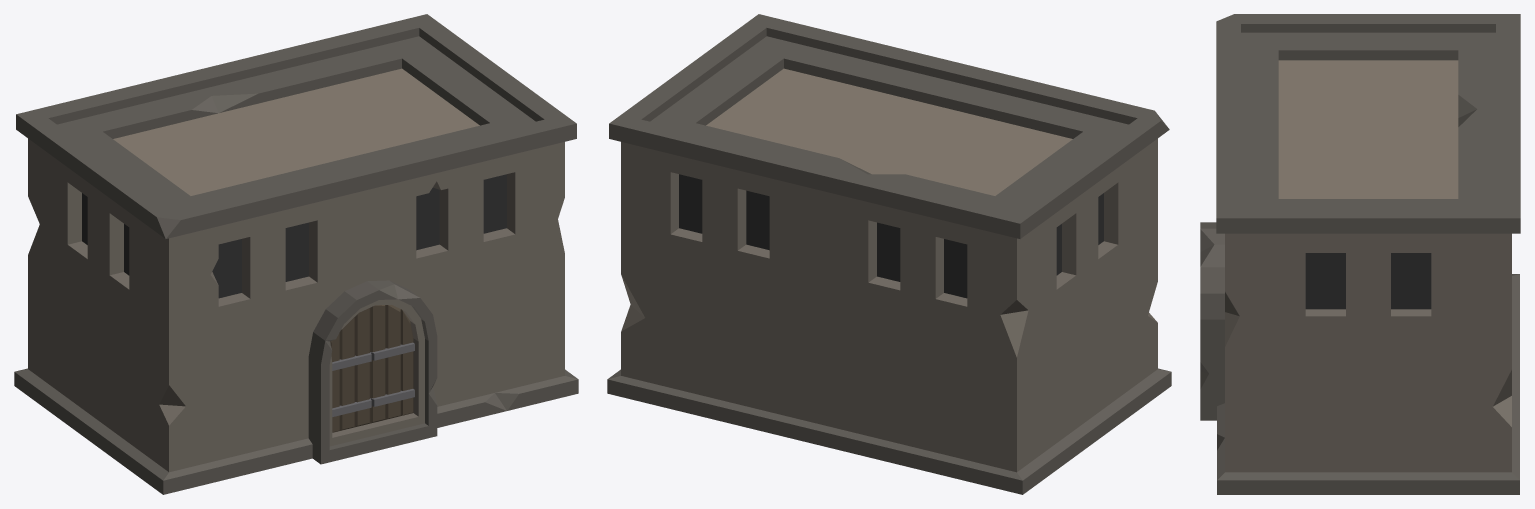
File: SM_Bld_Fort_Room_01.glb
The picture shows the model from 3 angles, left to right: view 1: azimuth 30°, elevation 25°; view 2: azimuth 150°, elevation 25°; view 3: azimuth 270°, elevation 25°; orthographic projection.
Parts seen in each view (by area): view 1: SM_Bld_Fort_Room_01; view 2: SM_Bld_Fort_Room_01; view 3: SM_Bld_Fort_Room_01.
Part boxes in pixels (left/top/right/bottom): SM_Bld_Fort_Room_01: left=14, top=14, right=578, bottom=494; SM_Bld_Fort_Room_01: left=607, top=14, right=1171, bottom=494; SM_Bld_Fort_Room_01: left=1200, top=14, right=1520, bottom=494.
Bounding box in the file's own units: 0.1061 × 0.0661 × 0.0697.
Materials: 1 (1 with a texture image).
